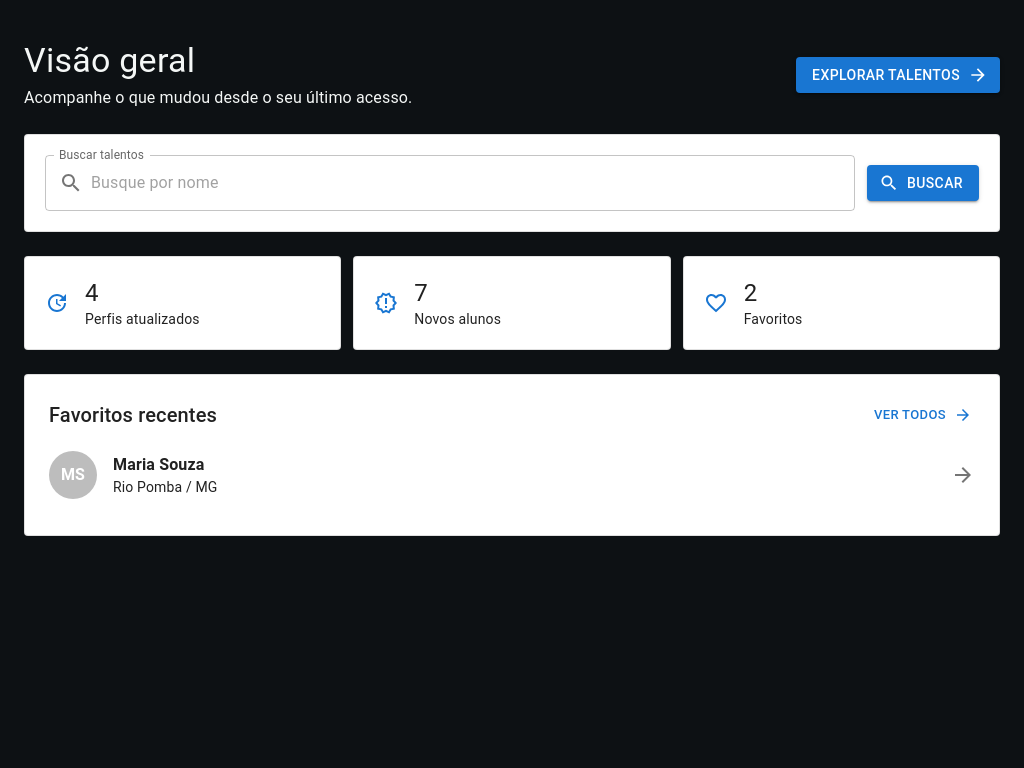
Test: RecruiterDashboardView › search › removes the validation error as soon as the user edits the term
Expected: the text "Maria Souza" is shown, [113,455,204,474]
Type "😀" into the field labelled "Buscar talentos" at (473, 183), box [91,155,855,211]
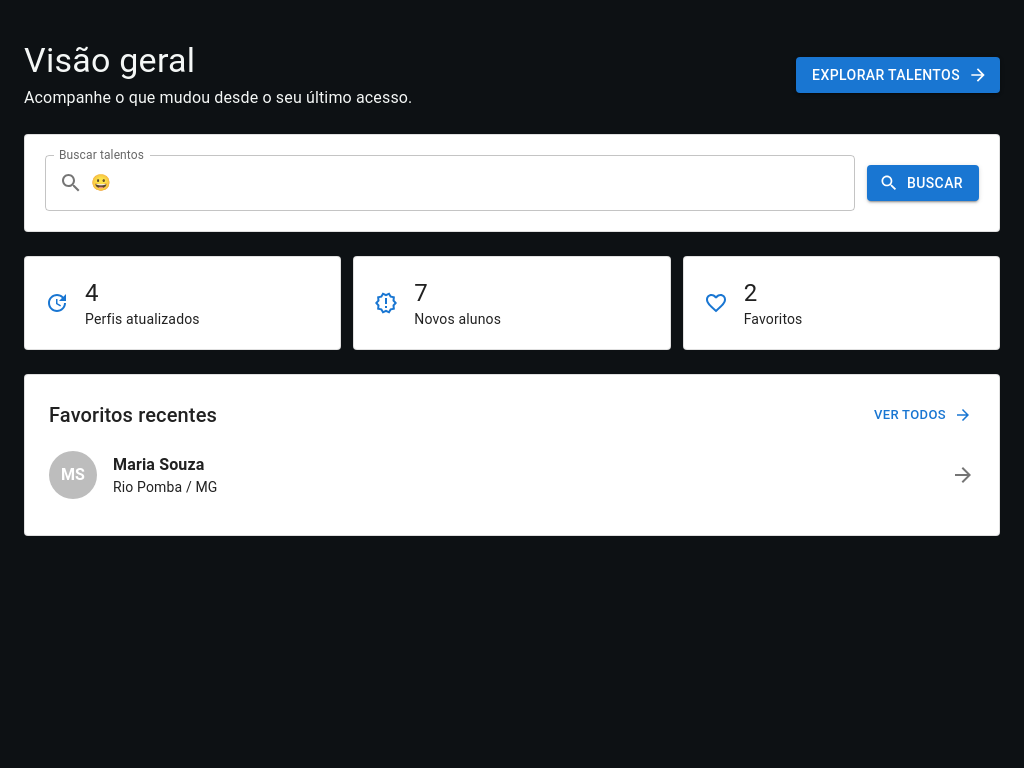
Click the button "Buscar" at (923, 183), box [867,165,979,201]
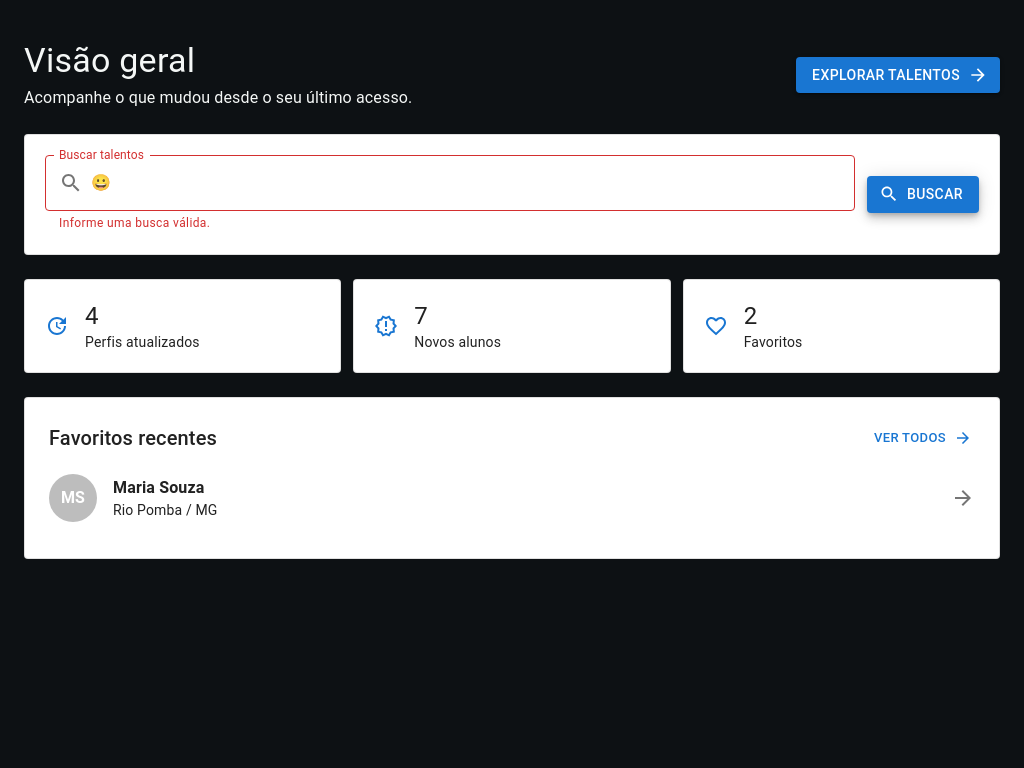
Expected: the text "Informe uma busca válida." is shown, [59,216,210,230]
Clear the field labelled "Buscar talentos" at (473, 183), box [91,155,855,211]
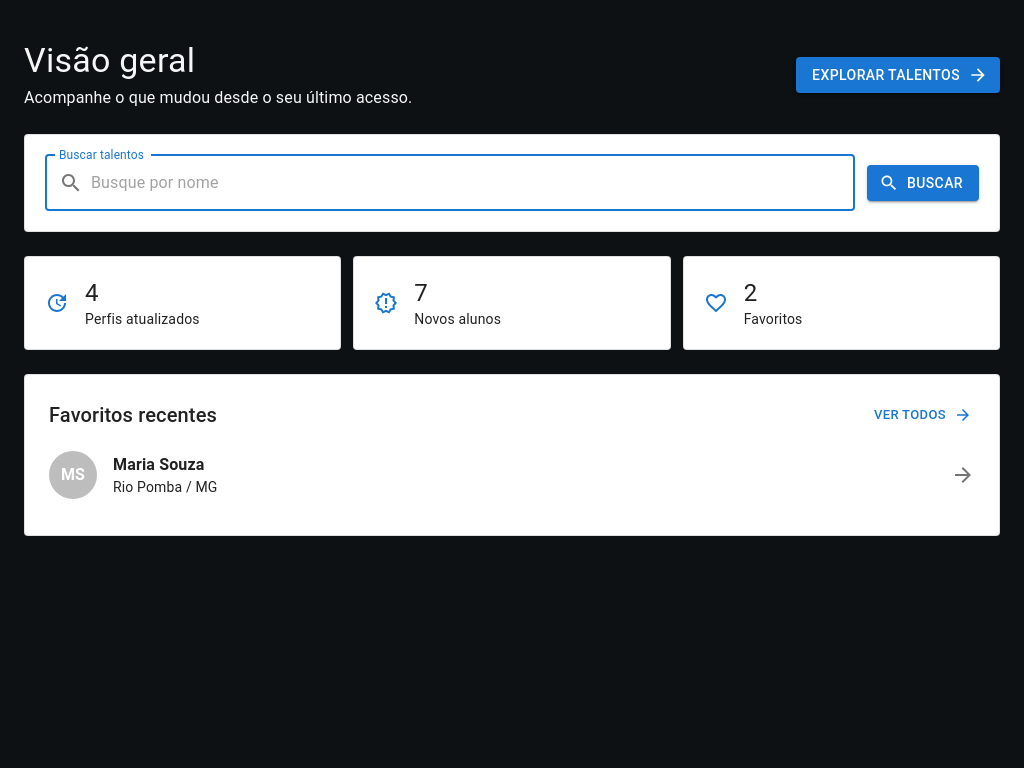
Expected: the text "Informe uma busca válida." is gone
